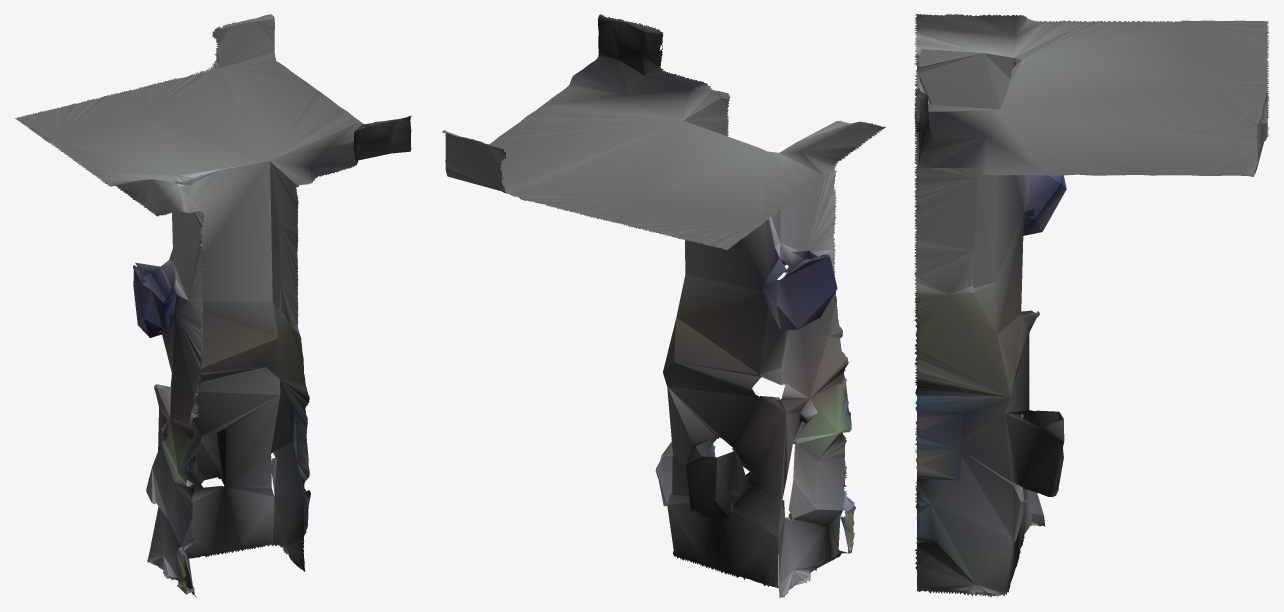
Rendered from coarse.glb.
3 renders of one model, left to right at view 1: azimuth 30°, elevation 25°; view 2: azimuth 150°, elevation 25°; view 3: azimuth 270°, elevation 25°, orthographic. The views are drawn at different scales.
Size of the model in its own units: 1.22 by 1.97 by 1.18.
